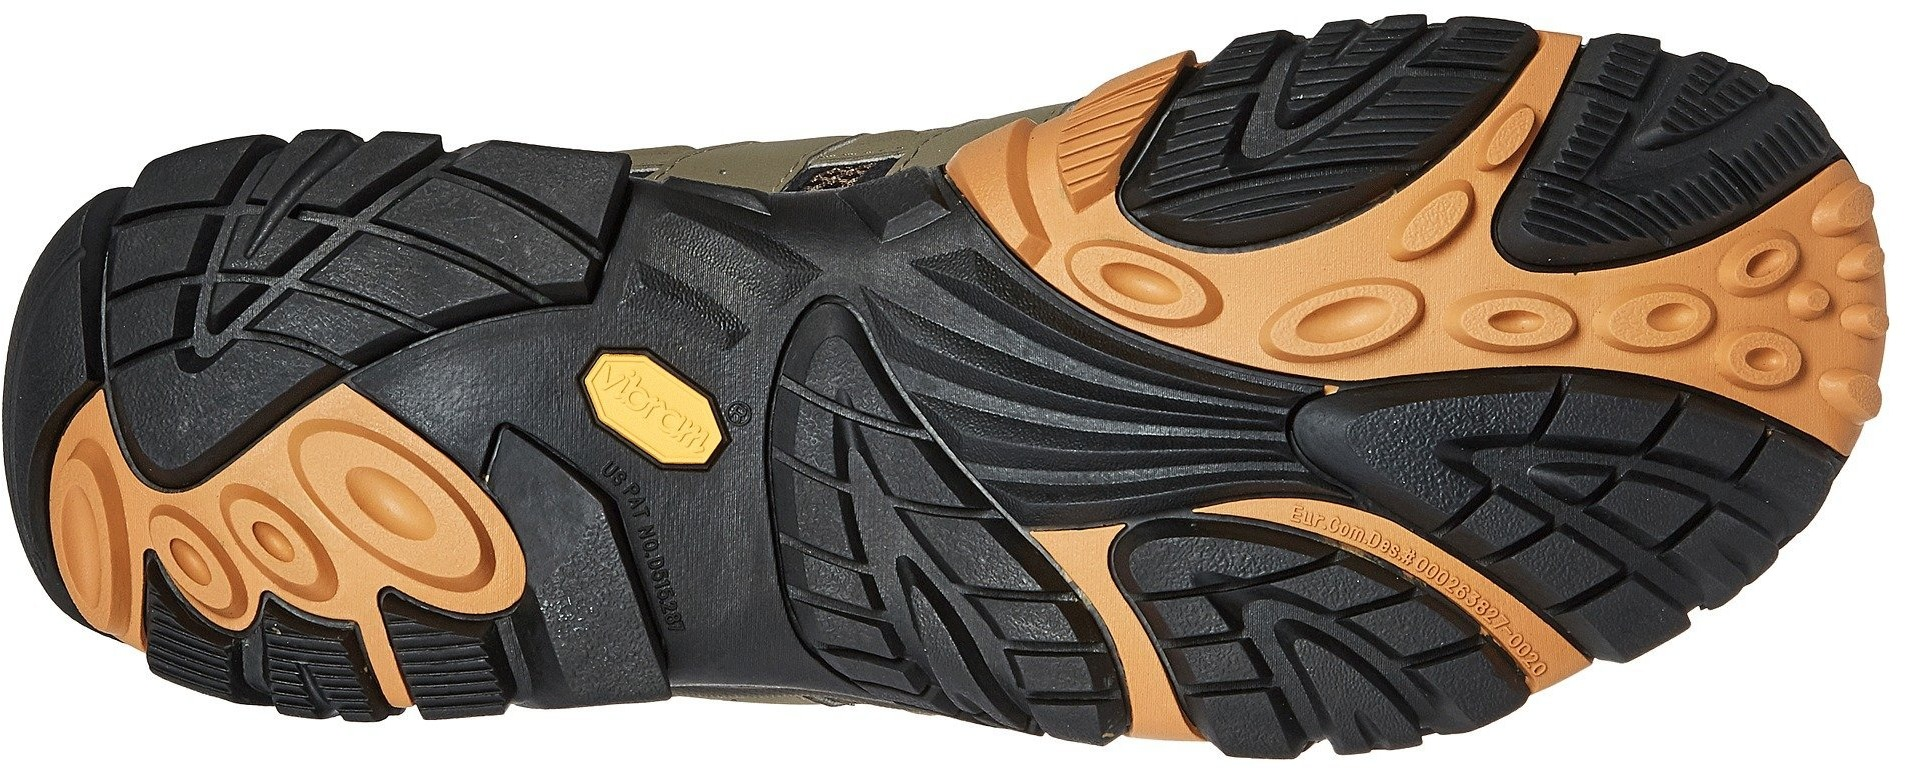chevron: (121, 137, 474, 409), (1194, 18, 1428, 219)
exclude: (487, 67, 1098, 193)
quad: (780, 467, 1061, 717)
